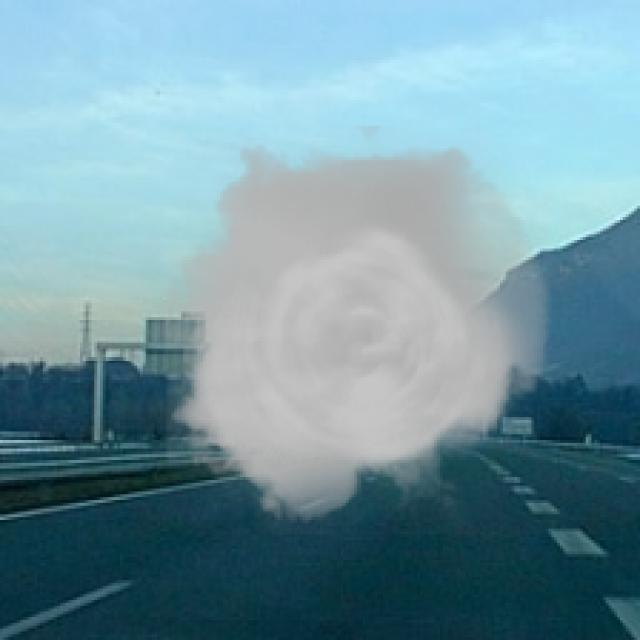smoke: (166, 126, 551, 534)
